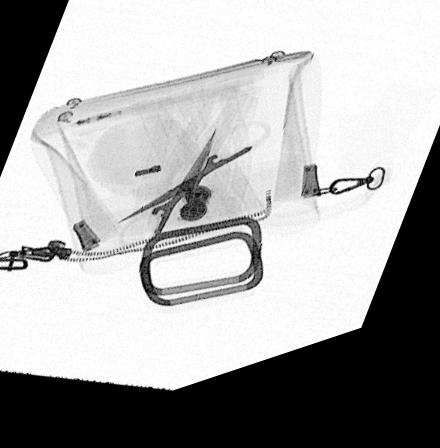Scissors: (115, 136, 272, 264)
